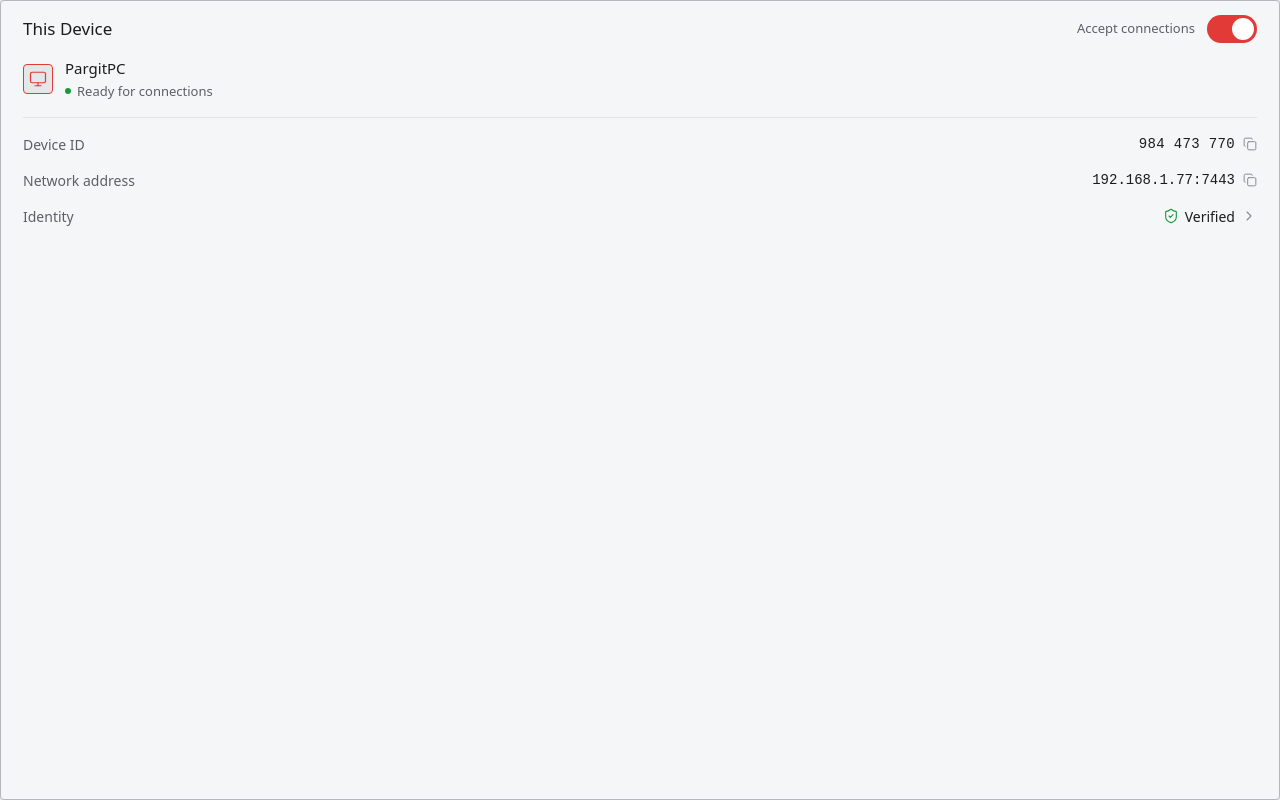
it: ThisDevice › keeps IPv6 and hostname out of the way until they are asked for
This screenshot has width=1280, height=800.
Expected: the text "fe80::1" is not shown
What coordinates should you click on to do the following:
click the button "Verified"
I would click on:
 (1210, 216)
Its box is x1=1163 y1=206 x2=1257 y2=226.
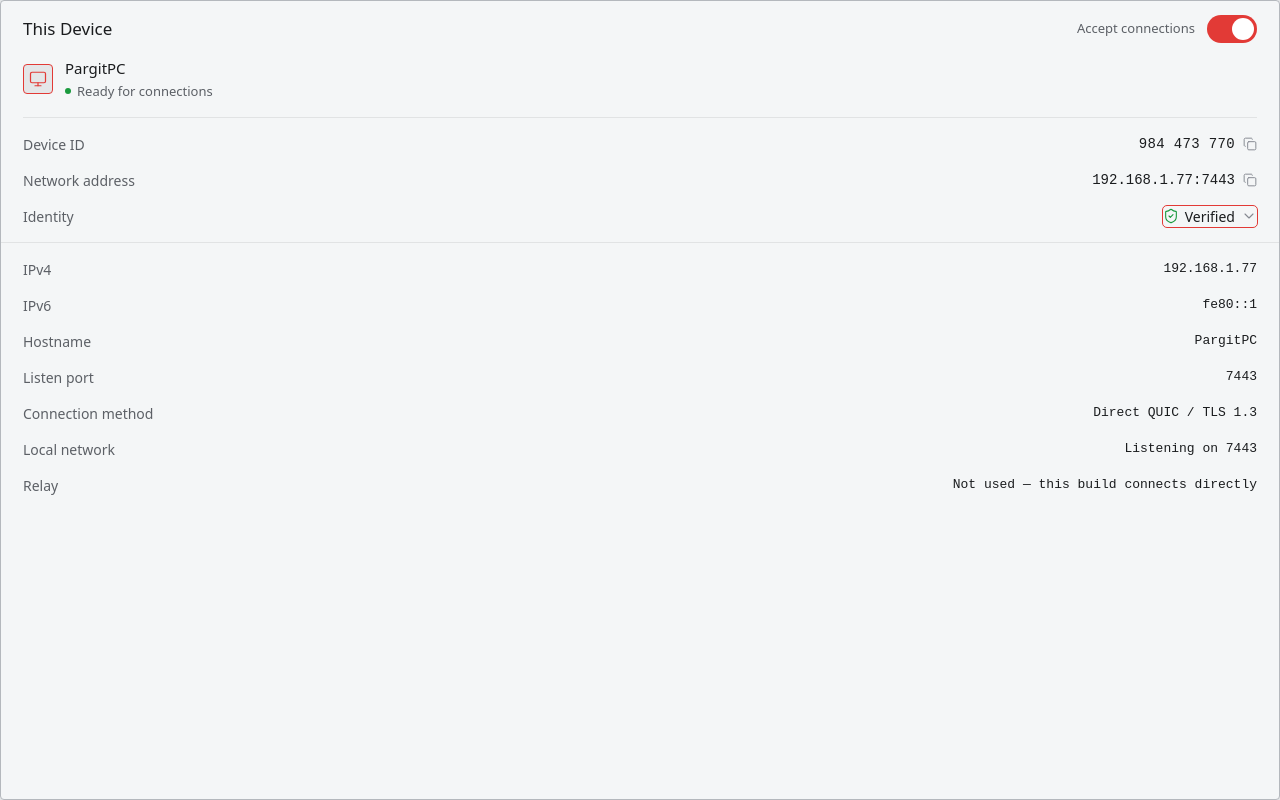
Expected: the text "fe80::1" is shown, x1=1202 y1=295 x2=1257 y2=315
Expected: the text "Direct QUIC / TLS 1.3" is shown, x1=1093 y1=403 x2=1257 y2=423
Expected: the text "Not used — this build connects directly" is shown, x1=953 y1=475 x2=1257 y2=495
